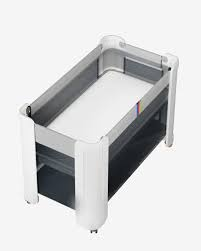crib: (20, 36, 177, 230)
